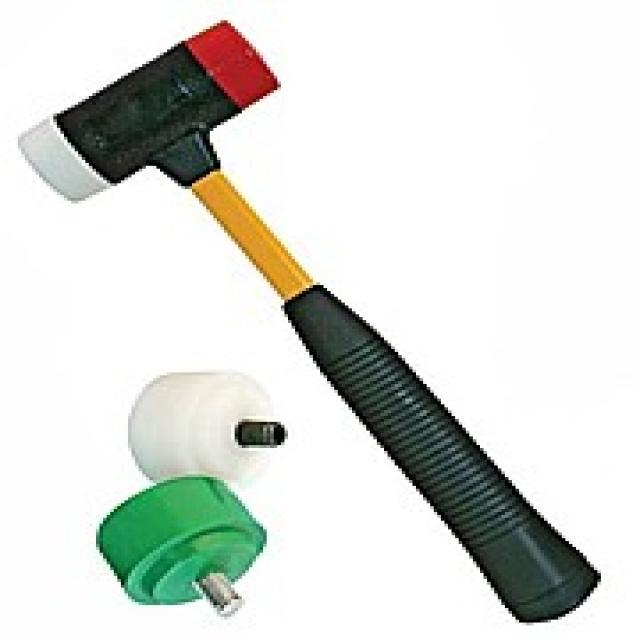hammer: (9, 12, 624, 630)
